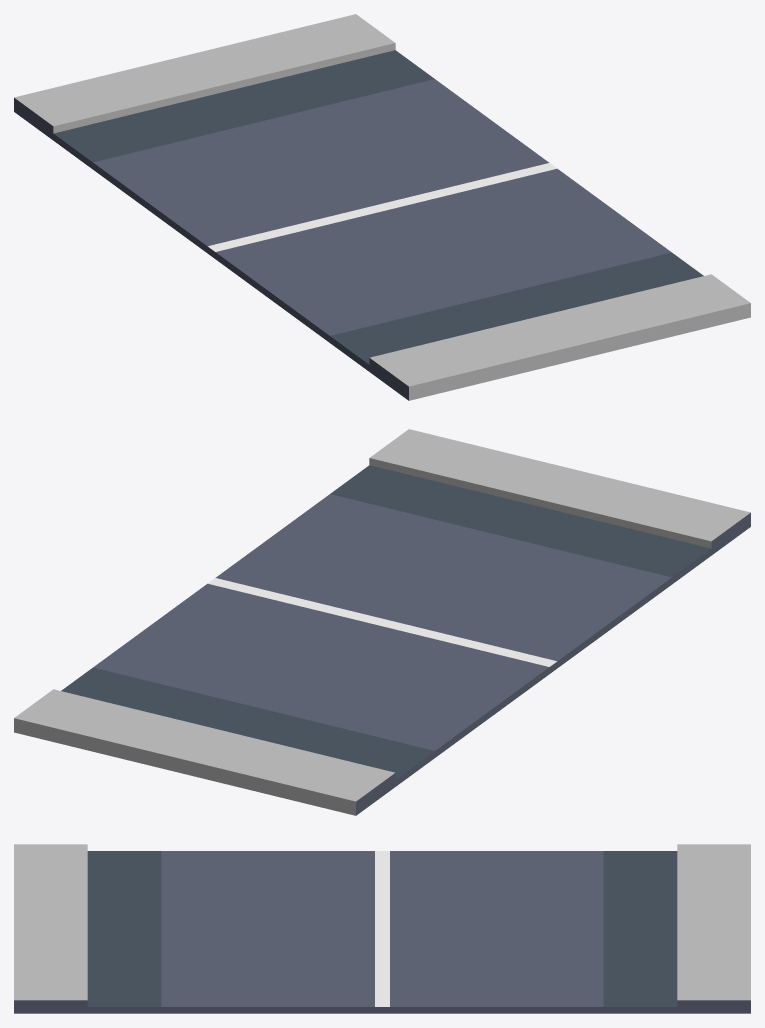
File: SM_Road_Straight_Half.fbx
The picture shows the model from 3 angles, top to bottom: view 1: azimuth 30°, elevation 25°; view 2: azimuth 150°, elevation 25°; view 3: azimuth 270°, elevation 25°; orthographic projection. The views are drawn at different scales.
Visible parts, largest first — view 1: SM_Road_Straight_Half; view 2: SM_Road_Straight_Half; view 3: SM_Road_Straight_Half.
Boxes of the visible parts, x1=… form: SM_Road_Straight_Half: x1=14, y1=14, x2=750, y2=400; SM_Road_Straight_Half: x1=14, y1=429, x2=750, y2=815; SM_Road_Straight_Half: x1=14, y1=844, x2=750, y2=1013.
Bounding box in the file's own units: 500 × 20 × 1000.
